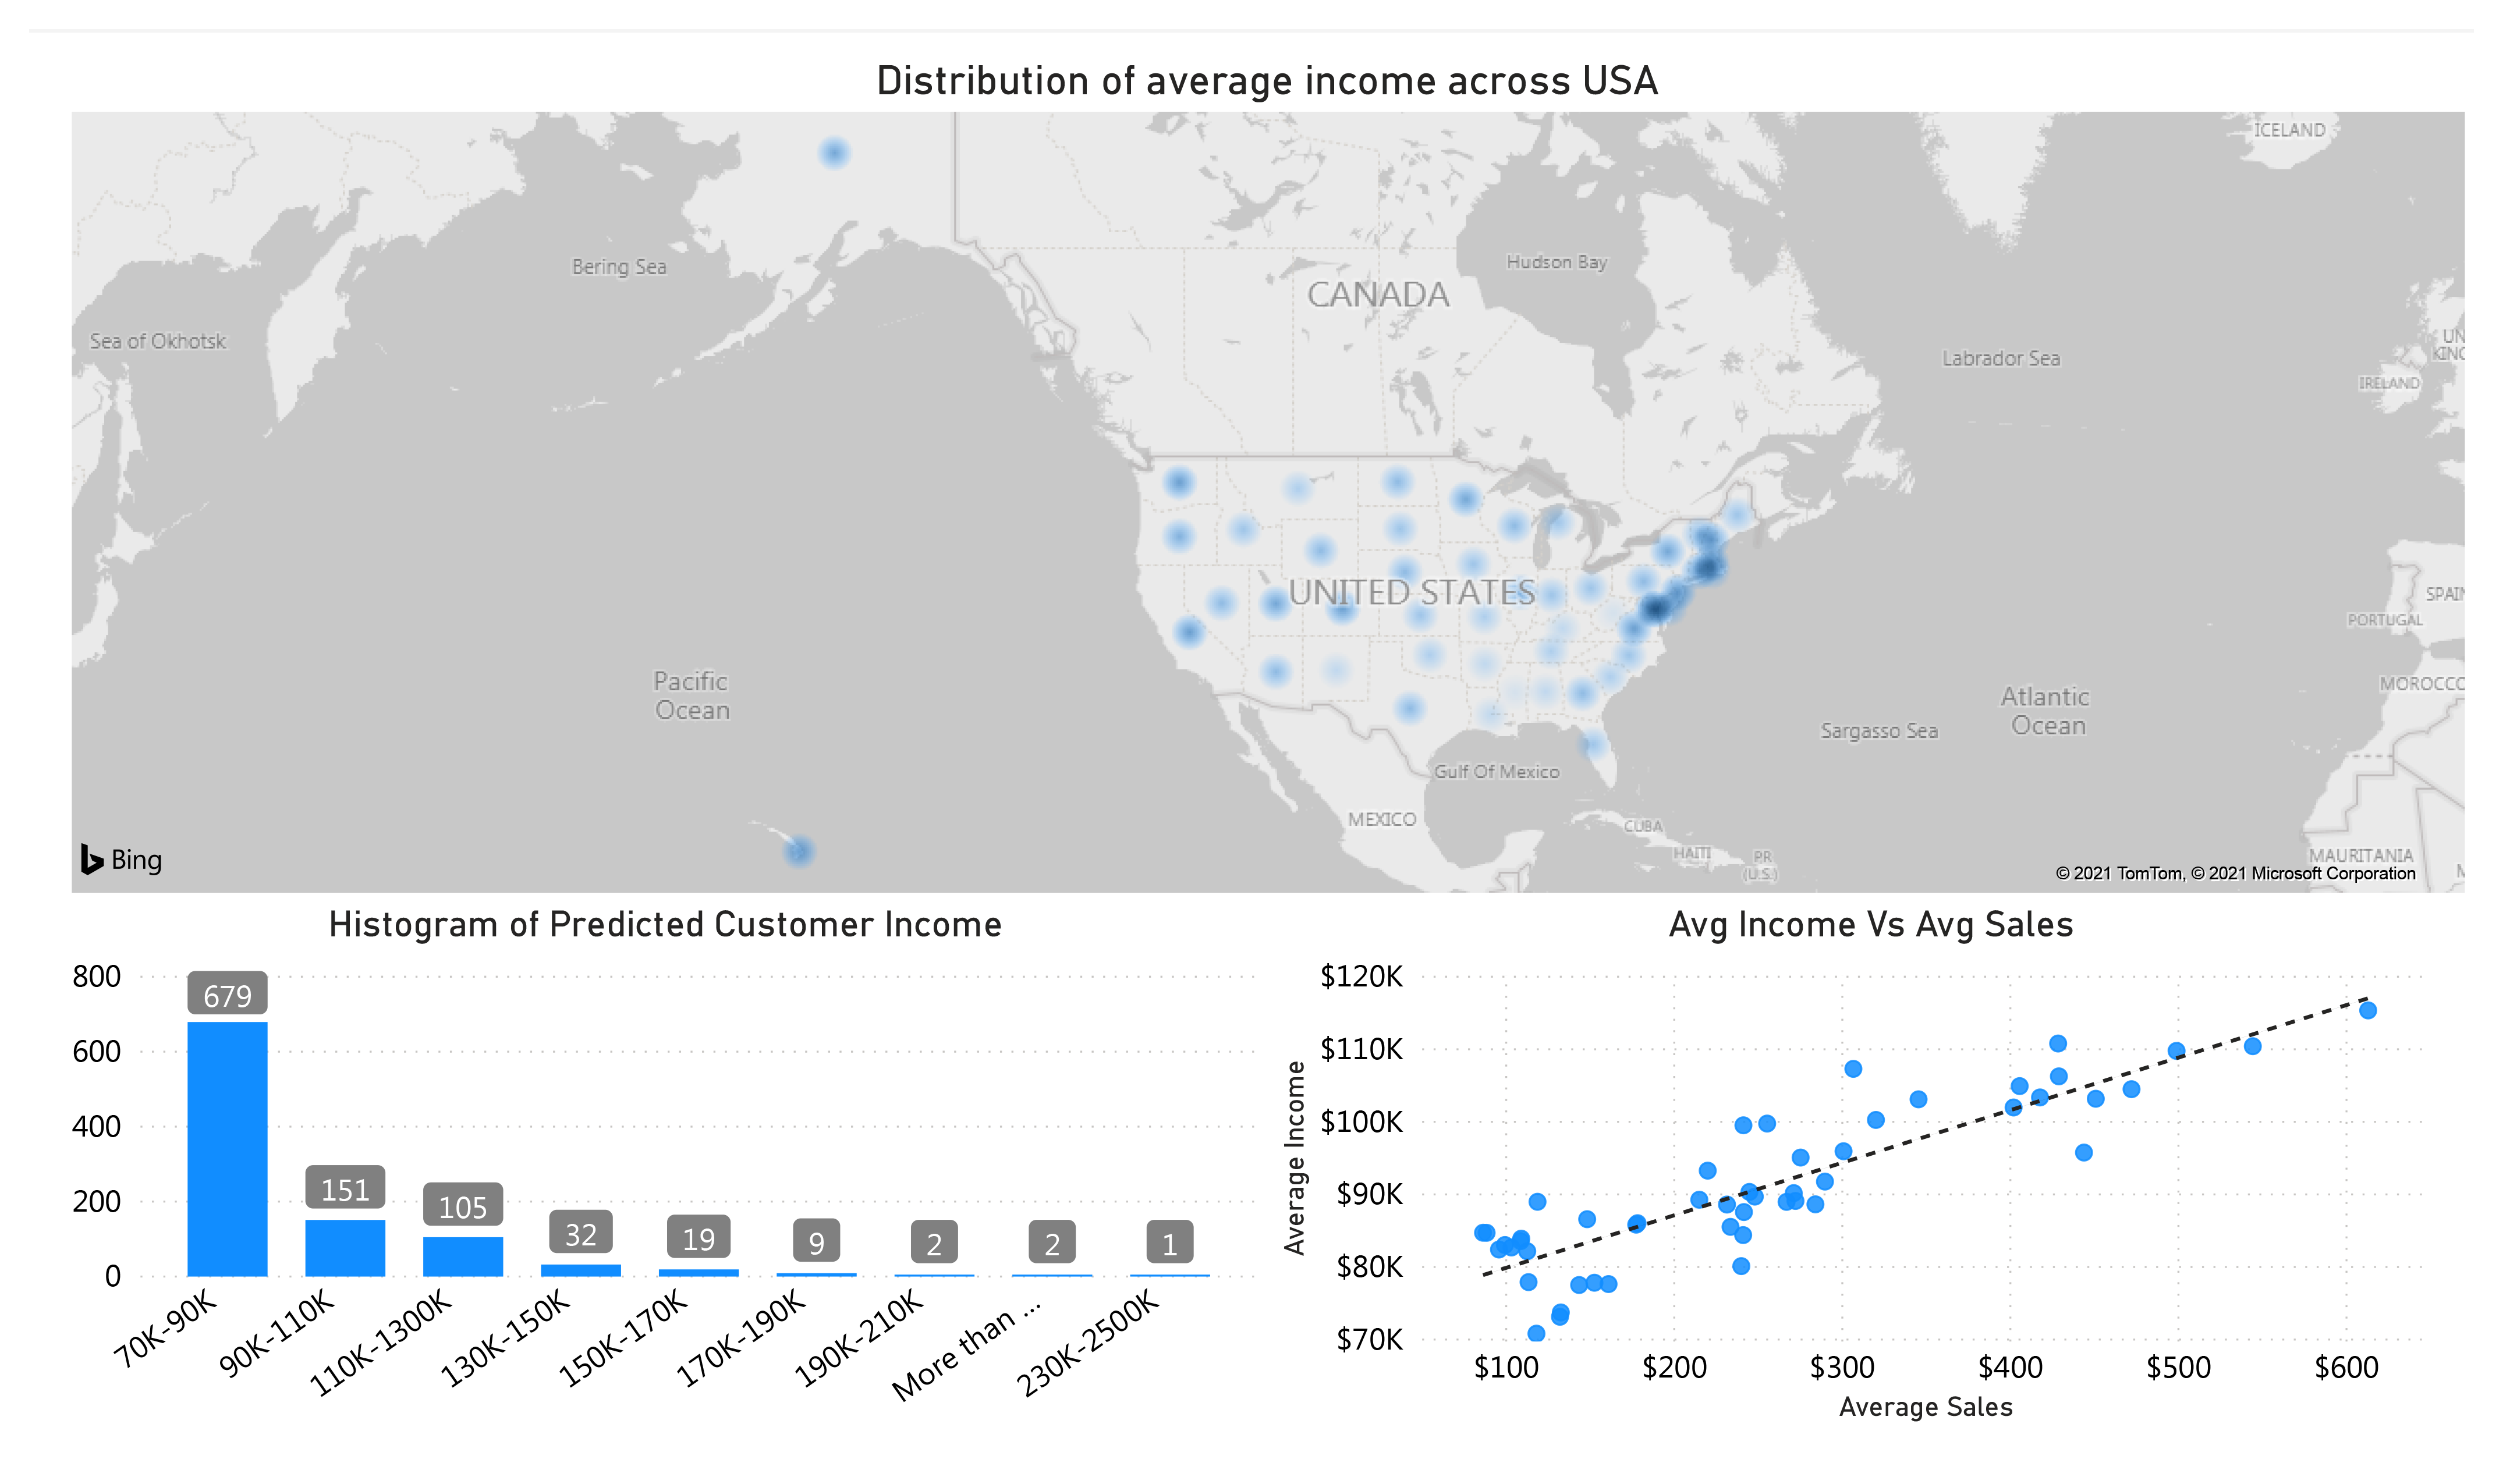

The dashboard page shown, as its layout file describes it:
{"tool":"powerbi","page":{"name":"Income & Sales","canvas":[1280,720],"ordinal":0},"visuals":[{"type":"map","title":"Distribution of average income across USA","fields":{"Size":["Sum(Regression Table.Average Income)"],"Category":["Regression Table.State"]},"box":[17.3,0,1262.5,443],"z":0},{"type":"columnChart","title":"Histogram of Predicted Customer Income","fields":{"Y":["Customer List.Customer Buckets Count"],"Category":["Customer List.Buckets"]},"box":[17.3,443,632,277],"z":1000},{"type":"scatterChart","title":"Avg Income Vs Avg Sales","fields":{"X":["Regression Table.Average Sales"],"Y":["Regression Table.Average Income"]},"box":[649.3,443,630.5,277],"z":2000}]}

Visuals, with their boxes on the page's 1280x720 design canvas (x1, y1, x2, y2). These are canvas units, not pixel positions in the 2503x1484 screenshot, which may show the page scaled, cropped or inside an application window:
"Distribution of average income across USA" map: 17:0:1280:443
"Histogram of Predicted Customer Income" columnChart: 17:443:649:720
"Avg Income Vs Avg Sales" scatterChart: 649:443:1280:720
